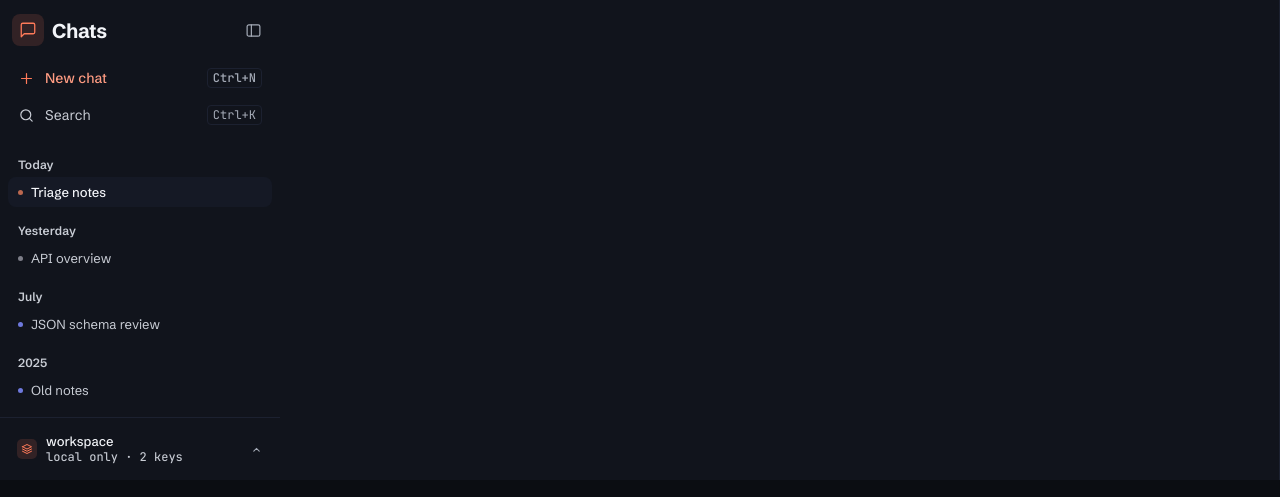
Test: Sidebar › renders the connector count tail on the Connectors item
Click the button "workspace local only · 2 keys".
click(140, 449)  # box [8, 426, 272, 472]
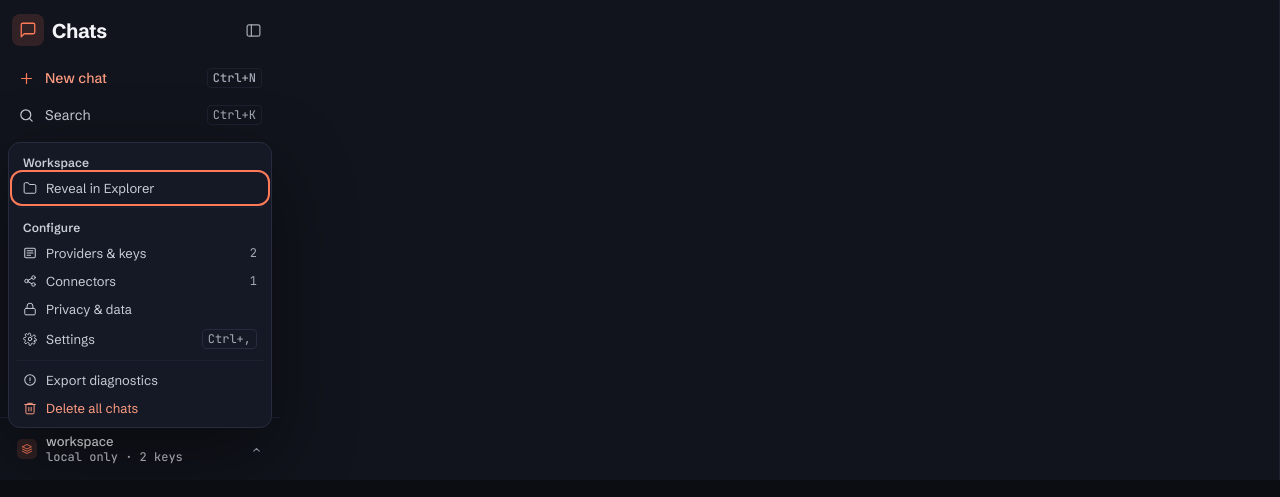
Expected: the text with class "tail" reads "1", [250, 273, 257, 289]
